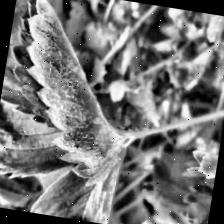Powdery Mildew Leaf: (0, 0, 154, 193), (172, 147, 219, 224), (10, 0, 58, 48)
